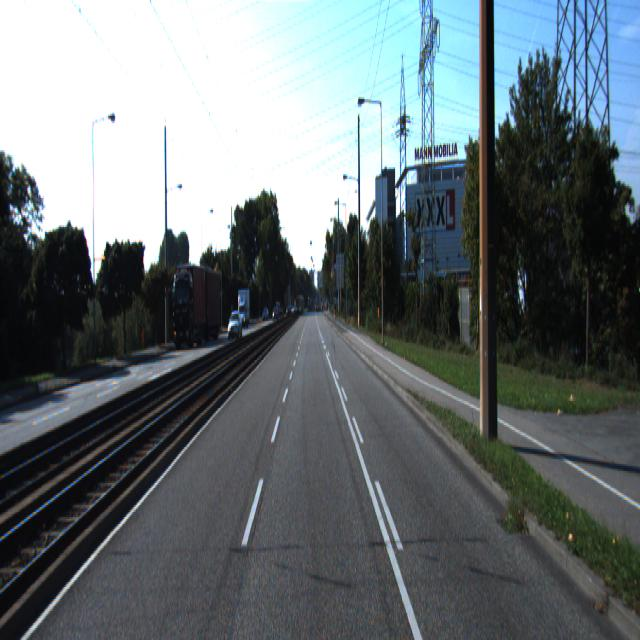Car: (170, 261, 207, 352), (193, 267, 221, 344), (227, 311, 243, 341)
